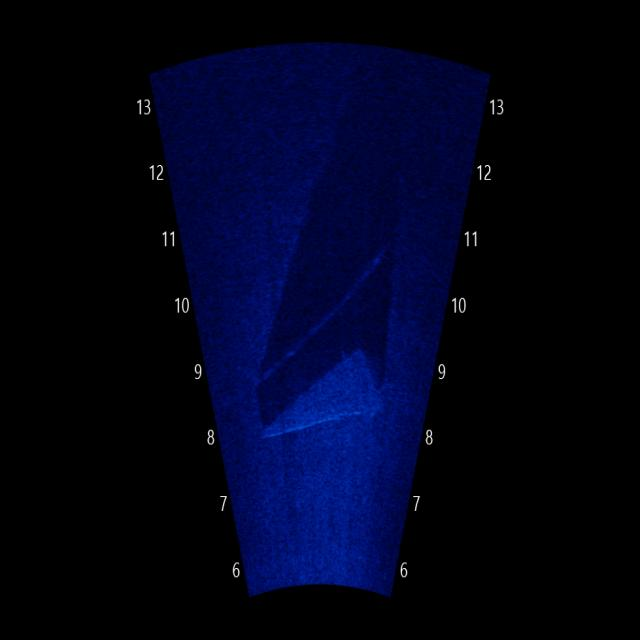triangle: (254, 338, 389, 461)
